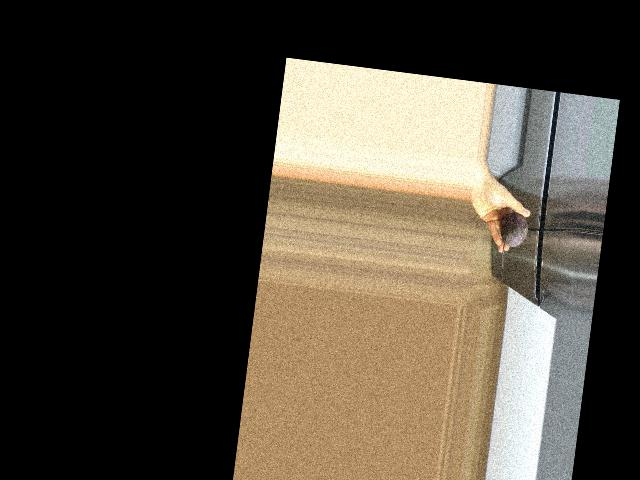beet: (496, 211, 529, 271)
